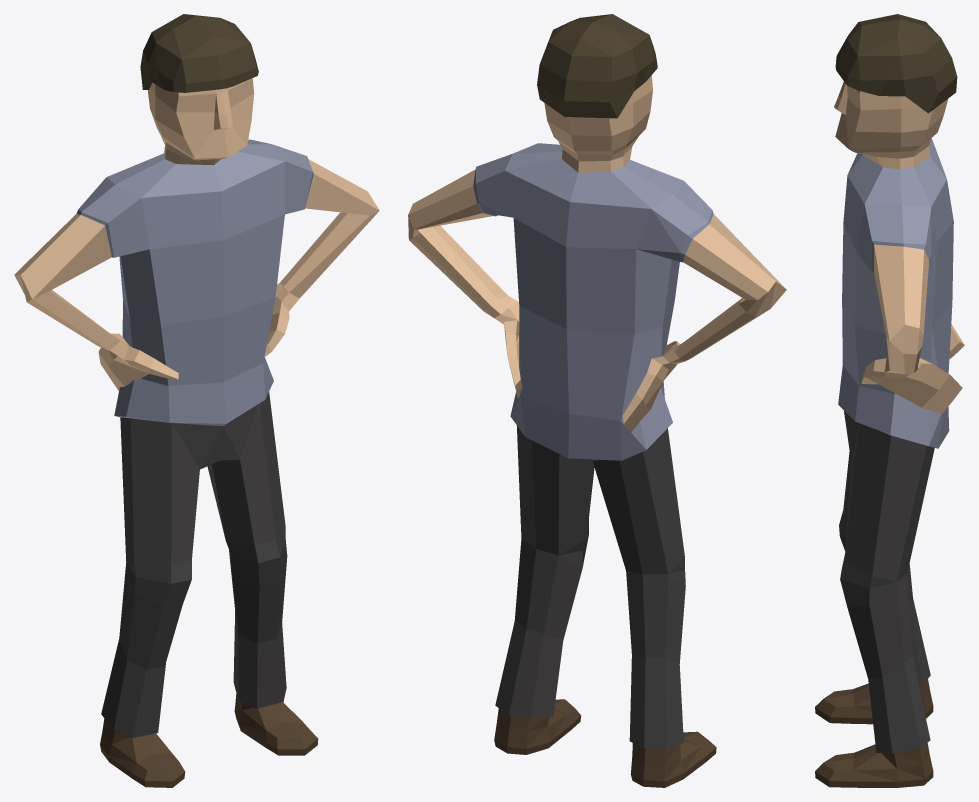
The model's file is Male_Standing_Hips.glb.
The picture shows the model from 3 angles, left to right: view 1: azimuth 30°, elevation 25°; view 2: azimuth 150°, elevation 25°; view 3: azimuth 270°, elevation 25°; orthographic projection.
Parts seen in each view (by area): view 1: Male_Standing_Hips; view 2: Male_Standing_Hips; view 3: Male_Standing_Hips.
Boxes of the visible parts, x1=… form: Male_Standing_Hips: x1=14, y1=14, x2=379, y2=787; Male_Standing_Hips: x1=408, y1=14, x2=786, y2=787; Male_Standing_Hips: x1=815, y1=14, x2=964, y2=787.
Size of the model in its own units: 0.9216 by 1.79 by 0.3348.
